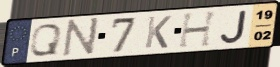7: (110, 17, 138, 54)
H: (177, 9, 220, 50)
J: (219, 9, 249, 45)
K: (143, 15, 174, 50)
N: (61, 16, 102, 58)
Q: (28, 23, 65, 58)
